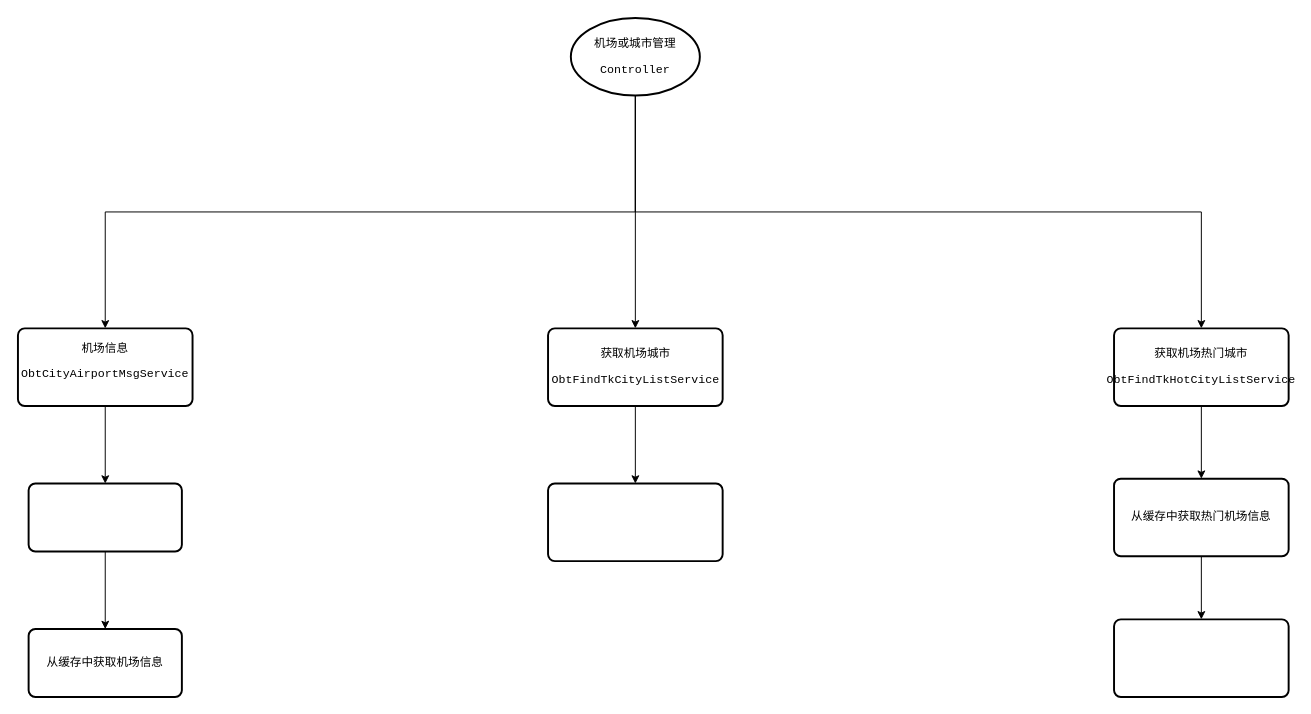
Some shapes in this 1311 by 714 pixel diagram are drawn without their labels. Each missing label, with the centre of its shape:
从订单中获取城市ID；: the point at 104,517
根据机场对象 获取机场列表 ( 包含城市信息 ): the point at 635,522
返回数据； 并重新缓存热门机场信息: the point at 1201,657
